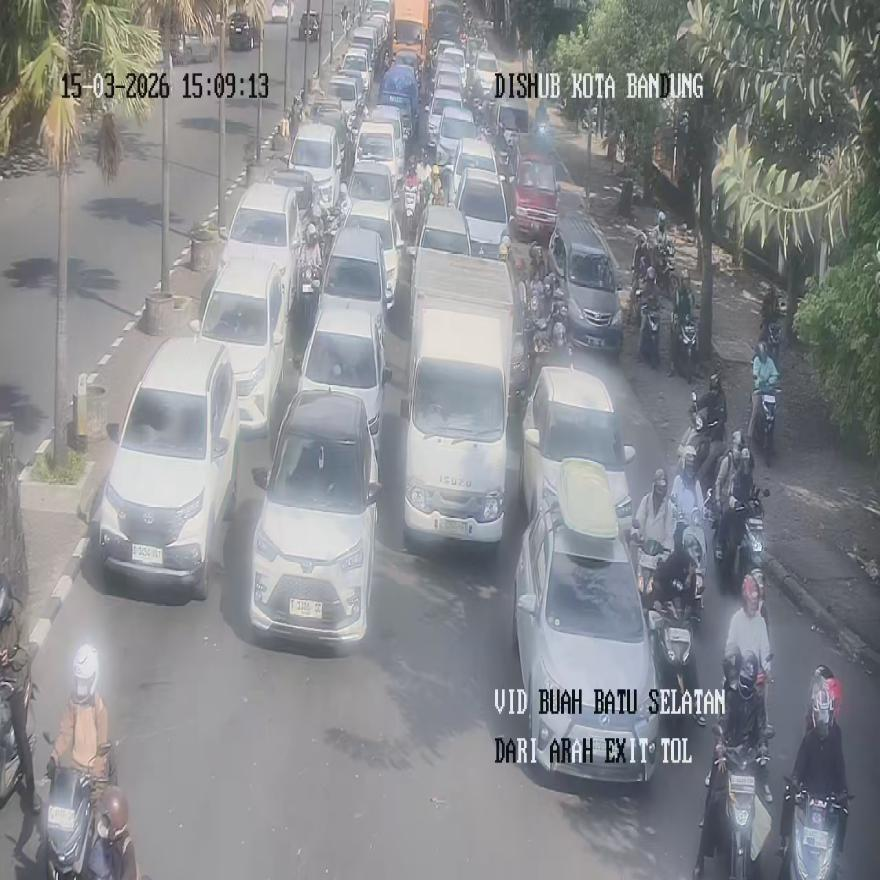Mobil: (512, 458, 661, 782), (97, 339, 239, 600), (247, 390, 382, 644), (520, 364, 635, 530), (190, 258, 289, 433), (298, 307, 391, 453), (548, 211, 623, 359), (220, 182, 302, 315), (320, 229, 394, 342), (343, 202, 403, 306), (454, 167, 513, 258), (507, 138, 559, 240), (288, 122, 341, 207), (378, 64, 418, 138), (355, 122, 397, 188), (268, 169, 317, 225), (416, 204, 470, 254), (370, 105, 404, 181), (434, 106, 476, 166), (454, 138, 497, 194), (348, 160, 393, 205), (426, 88, 462, 144), (311, 93, 346, 150), (494, 98, 529, 152), (327, 76, 358, 120), (342, 49, 370, 90)
Motor: (720, 725, 774, 879), (47, 767, 109, 879), (783, 778, 846, 879), (720, 487, 769, 584), (648, 601, 695, 696), (670, 492, 707, 611), (678, 392, 717, 470), (735, 487, 764, 583), (0, 681, 21, 804), (755, 287, 784, 369), (627, 231, 652, 325), (637, 540, 671, 606), (525, 280, 552, 354), (752, 389, 778, 463), (686, 521, 707, 612), (655, 239, 680, 298), (300, 263, 321, 333), (550, 287, 571, 354), (674, 321, 697, 382), (512, 315, 534, 377), (319, 207, 343, 262), (639, 304, 659, 367), (529, 274, 556, 316), (544, 273, 567, 322), (632, 231, 651, 289), (403, 183, 421, 242), (318, 213, 338, 265), (311, 206, 327, 260), (497, 129, 517, 172), (721, 652, 742, 692), (512, 258, 528, 310), (653, 236, 675, 273), (658, 262, 680, 299), (551, 318, 572, 356), (530, 317, 551, 354), (288, 91, 303, 139), (703, 486, 719, 529), (529, 241, 547, 279), (538, 272, 562, 300), (627, 285, 643, 326), (766, 322, 780, 367), (474, 92, 491, 129), (345, 115, 359, 156), (528, 282, 543, 320), (660, 239, 675, 273), (503, 129, 518, 150), (472, 92, 483, 118), (379, 49, 390, 75), (478, 124, 492, 143), (498, 147, 509, 168), (341, 9, 349, 34), (465, 9, 473, 31), (537, 120, 547, 136), (460, 31, 468, 51), (559, 96, 568, 113)
Truk berat: (392, 0, 430, 66)
Truk ringan: (400, 251, 512, 548)
